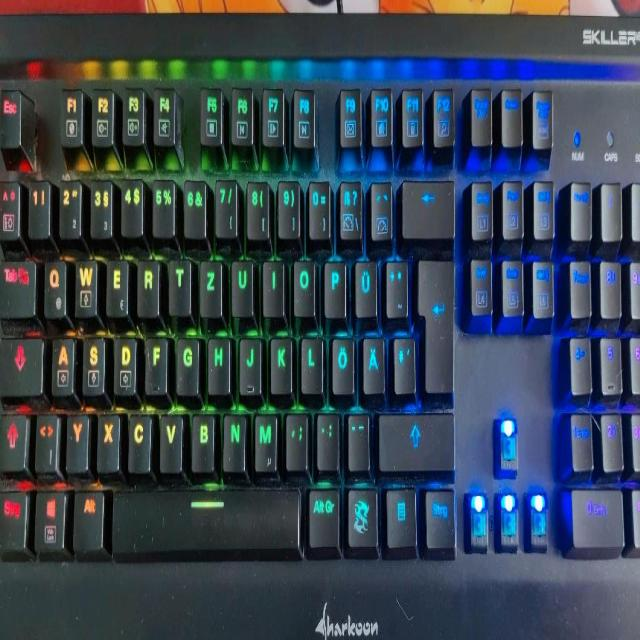0: (306, 174, 330, 238)
1: (26, 173, 49, 235)
2: (57, 174, 81, 236)
3: (87, 172, 112, 237)
4: (119, 173, 143, 235)
5: (150, 174, 174, 236)
6: (181, 173, 206, 236)
7: (212, 173, 237, 237)
8: (244, 174, 268, 239)
9: (275, 174, 299, 237)
a: (49, 331, 73, 393)
accent: (368, 175, 392, 239)
ae: (360, 330, 384, 391)
alt-left: (70, 482, 103, 548)
altgr-right: (305, 481, 338, 545)
b: (189, 406, 214, 468)
c: (126, 406, 150, 468)
caret: (0, 173, 19, 237)
comma: (284, 406, 308, 467)
d: (111, 329, 135, 393)
del: (400, 173, 454, 235)
e: (103, 252, 127, 314)
enter: (414, 251, 453, 391)
f: (142, 328, 166, 391)
g: (174, 330, 198, 392)
h: (205, 330, 229, 392)
hash: (391, 330, 414, 391)
i: (260, 252, 283, 313)
j: (237, 330, 260, 393)
k: (267, 329, 292, 392)
keyboard: (0, 48, 640, 590)
l: (298, 330, 321, 391)
less: (32, 406, 57, 468)
m: (251, 407, 276, 469)
minus: (345, 407, 368, 467)
n: (220, 407, 245, 469)
o: (290, 253, 315, 314)
oe: (329, 331, 353, 392)
p: (322, 254, 345, 315)
plus: (383, 253, 406, 316)
point: (314, 406, 338, 467)
q: (41, 253, 65, 315)
r: (134, 252, 159, 314)
s: (79, 329, 104, 392)
shift-left: (0, 407, 26, 467)
shift-lock: (0, 331, 42, 393)
shift-right: (376, 406, 453, 468)
space: (108, 480, 300, 552)
ss: (336, 175, 361, 240)
strg-left: (0, 484, 26, 549)
strg-right: (422, 482, 454, 546)
t: (166, 251, 190, 312)
tab: (0, 252, 35, 313)
u: (229, 252, 253, 314)
ue: (352, 253, 376, 315)
v: (157, 406, 182, 468)
w: (72, 253, 96, 314)
x: (95, 406, 119, 468)
y: (64, 407, 87, 468)
z: (197, 253, 222, 314)
